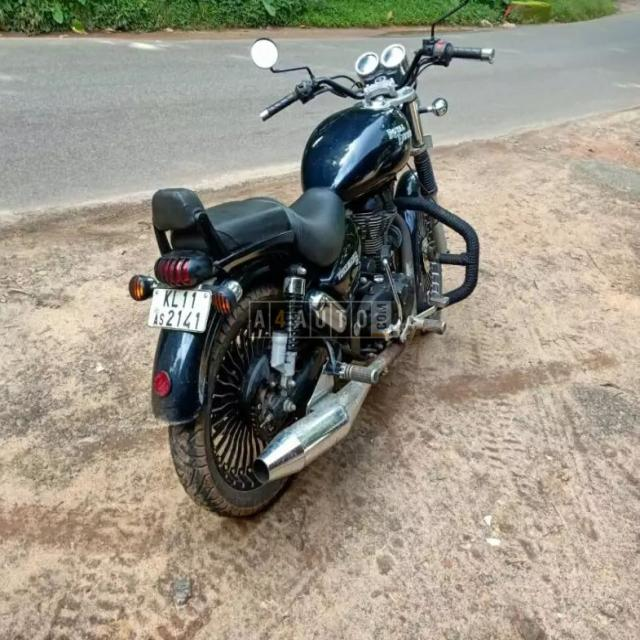license_plate: (147, 286, 211, 333)
